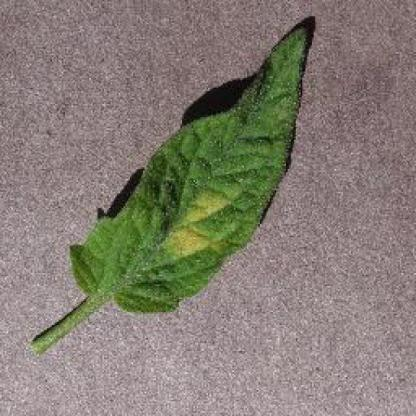Tomato_Leaf_Mold: (70, 26, 310, 311)
